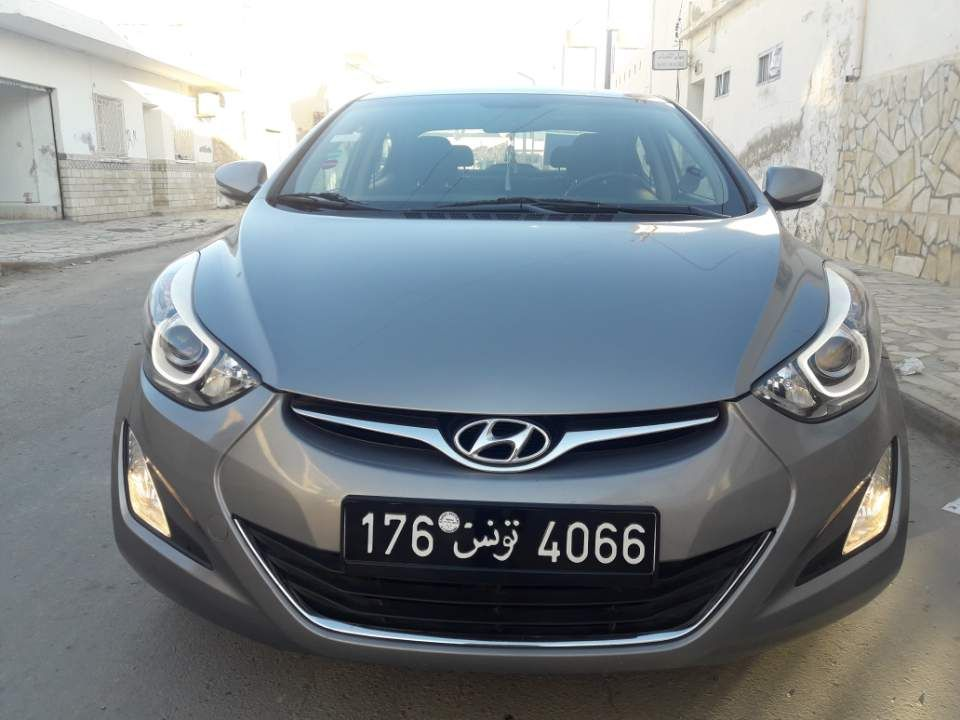LP: (341, 497, 651, 577)
